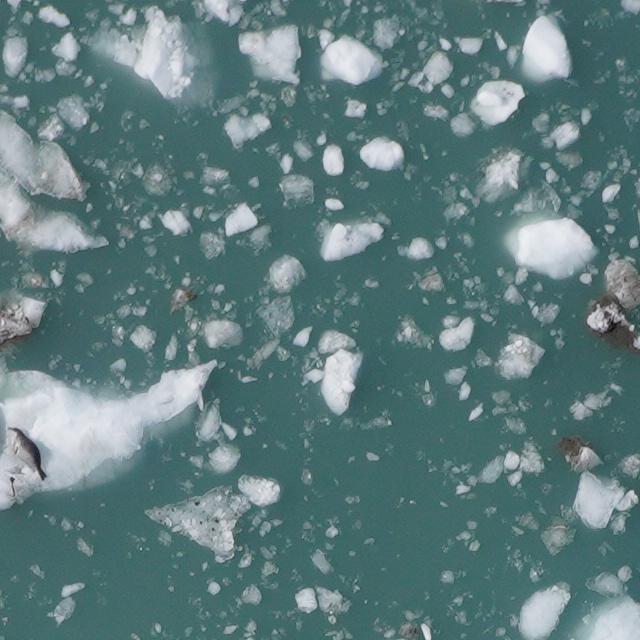seal: (0, 420, 59, 483)
